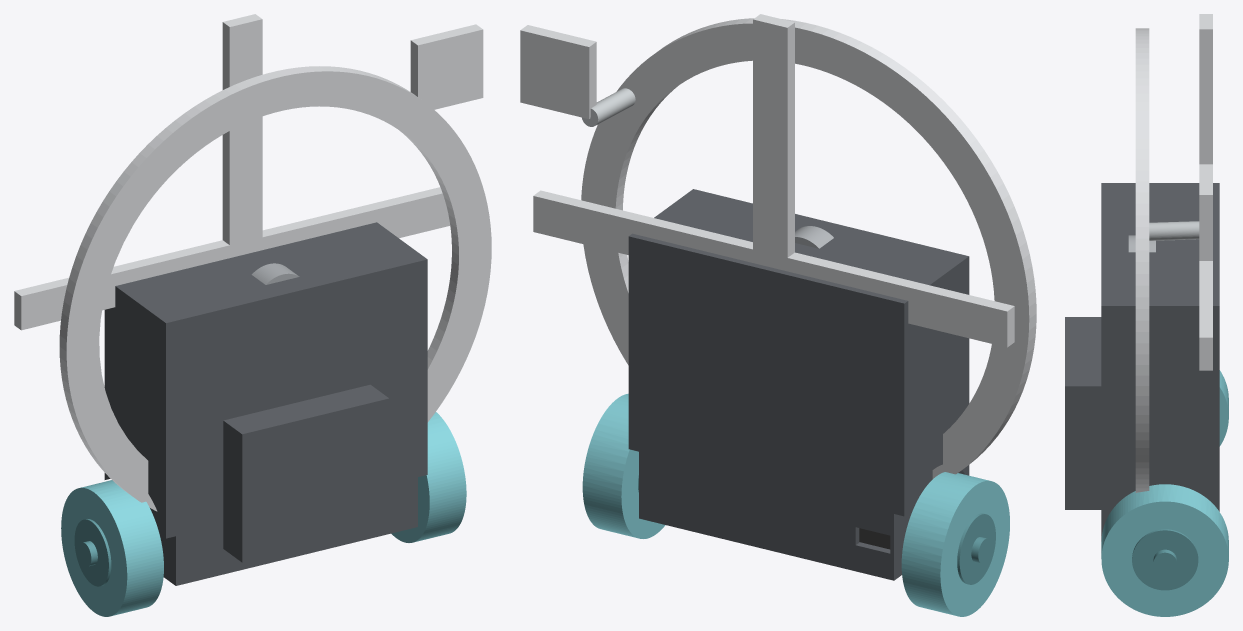
Rendered from gargantua.glb.
3 renders of one model, left to right at view 1: azimuth 30°, elevation 25°; view 2: azimuth 150°, elevation 25°; view 3: azimuth 270°, elevation 25°, orthographic. The views are drawn at different scales.
Parts seen in each view (by area): view 1: chassis, weapon, lid, spoke2, wheel_r0, spoke, tooth, wheel_l0, dt_hub_wheel_r0, dt_hubw_weapon; view 2: chassis, weapon, spoke2, wheel_r0, spoke, wheel_l0, tooth, dt_hub_wheel_r0, dt_strut_tooth; view 3: chassis, wheel_l0, lid, weapon, dt_hub_wheel_l0, spoke, spoke2, tooth, dt_strut_tooth, wheel_r0.
Part boxes in pixels (left/top/right/bottom): chassis: left=104, top=222, right=427, bottom=585; weapon: left=59, top=66, right=491, bottom=511; lid: left=223, top=384, right=389, bottom=562; spoke2: left=14, top=187, right=450, bottom=330; wheel_r0: left=61, top=480, right=163, bottom=616; spoke: left=222, top=14, right=262, bottom=245; tooth: left=410, top=24, right=483, bottom=109; wheel_l0: left=391, top=412, right=466, bottom=542; dt_hub_wheel_r0: left=74, top=519, right=111, bottom=586; dt_hubw_weapon: left=251, top=263, right=299, bottom=284; chassis: left=628, top=189, right=969, bottom=580; weapon: left=581, top=18, right=1036, bottom=478; spoke2: left=533, top=190, right=1014, bottom=347; wheel_r0: left=901, top=472, right=1009, bottom=616; spoke: left=753, top=14, right=794, bottom=257; wheel_l0: left=582, top=393, right=665, bottom=538; tooth: left=520, top=25, right=596, bottom=118; dt_hub_wheel_r0: left=957, top=513, right=995, bottom=584; dt_strut_tooth: left=582, top=88, right=635, bottom=126; chassis: left=1101, top=183, right=1219, bottom=541; wheel_l0: left=1101, top=484, right=1228, bottom=616; lid: left=1065, top=317, right=1101, bottom=509; weapon: left=1135, top=28, right=1149, bottom=492; dt_hub_wheel_l0: left=1132, top=529, right=1198, bottom=590; spoke: left=1199, top=14, right=1212, bottom=164; spoke2: left=1199, top=261, right=1212, bottom=370; tooth: left=1199, top=164, right=1212, bottom=260; dt_strut_tooth: left=1149, top=221, right=1199, bottom=240; wheel_r0: left=1219, top=370, right=1228, bottom=446.
Size of the model in its own units: 113 by 125 by 36.
